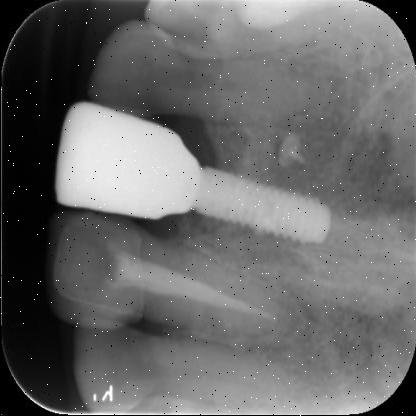ITI: (186, 158, 338, 256)
